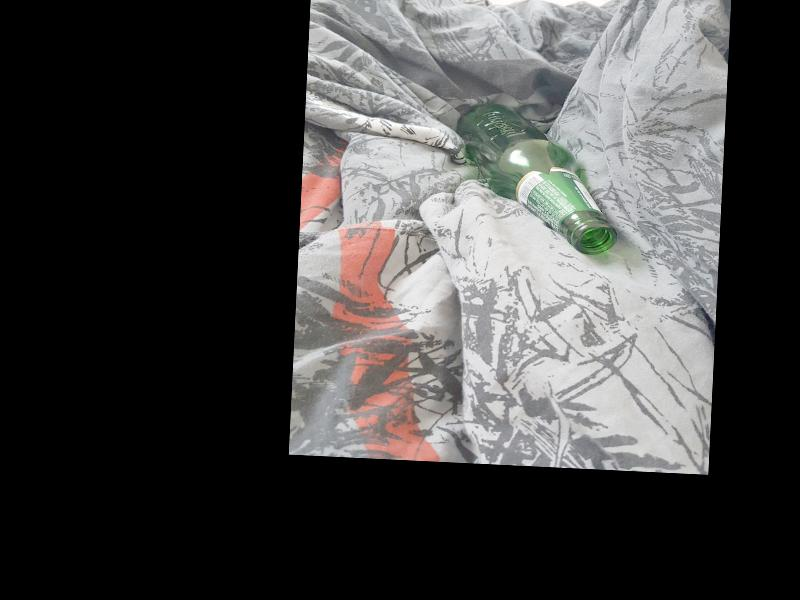Beer: (450, 102, 621, 256)
